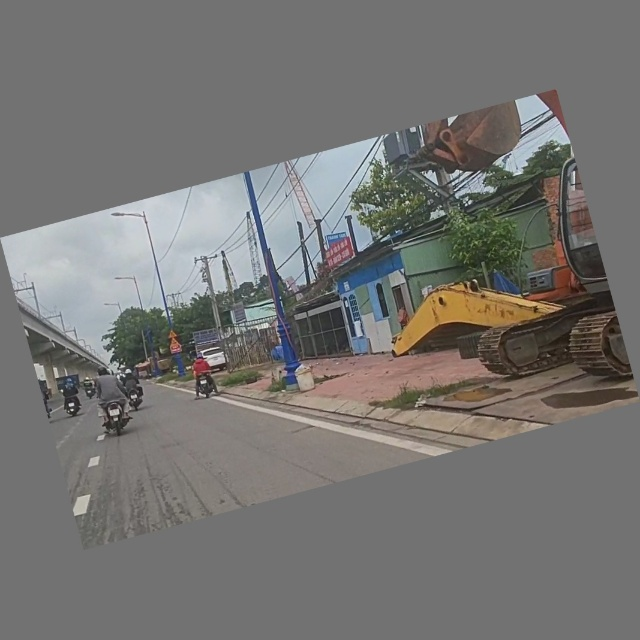W.203c: (166, 329, 178, 339)
W.245a: (168, 337, 181, 349)
